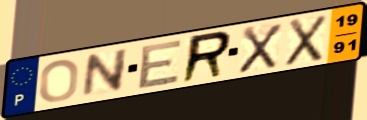E: (136, 37, 185, 91)
N: (79, 47, 131, 100)
O: (38, 58, 82, 104)
R: (178, 29, 235, 86)
X: (283, 12, 330, 68), (236, 21, 284, 75)
